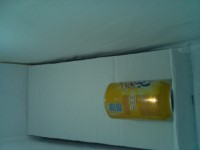kaleng: (104, 81, 173, 120)
